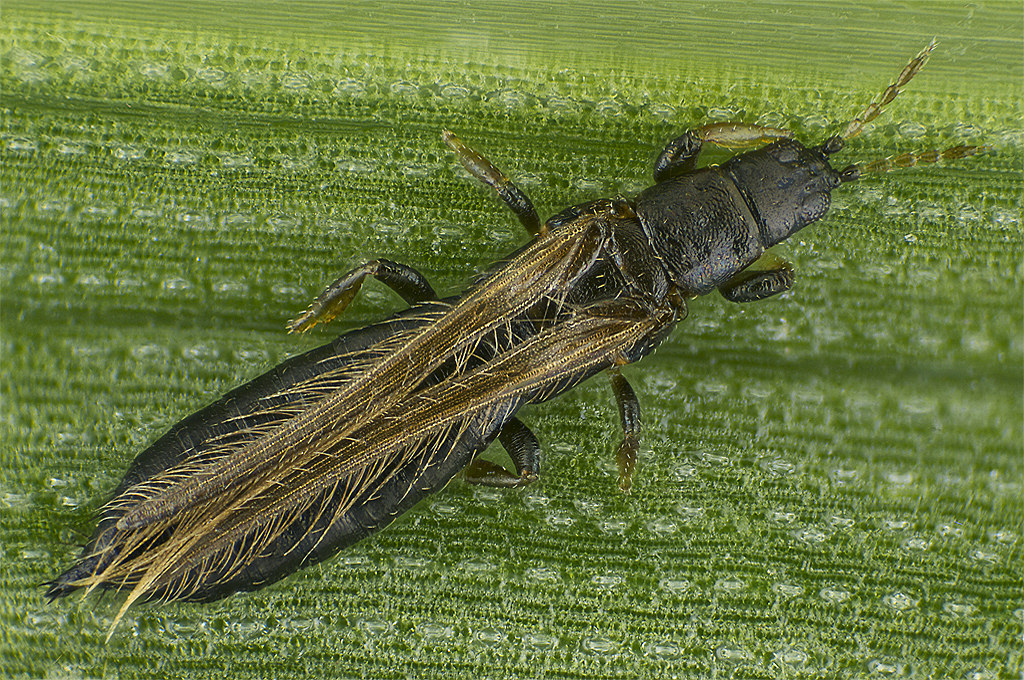Phlaeothripidae: (33, 34, 989, 647)
